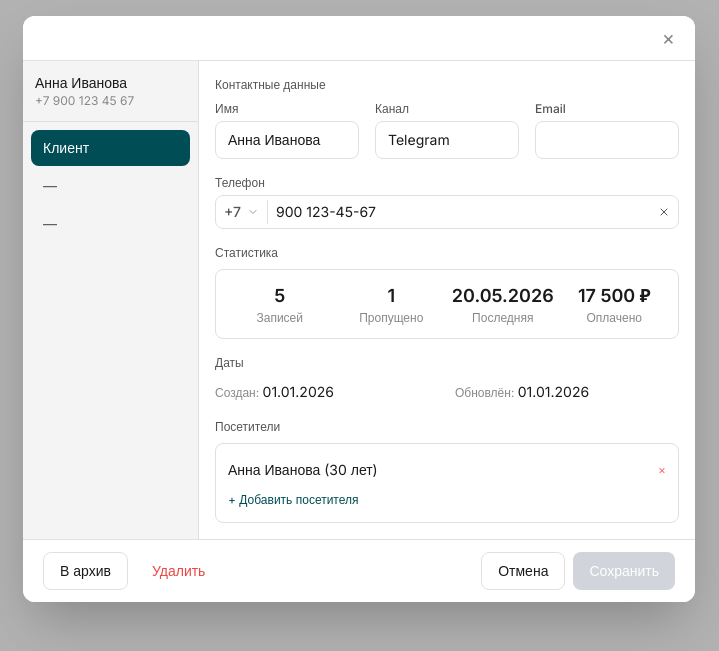
Test: ClientCardModal ↔ ClientInfoTab integration (real components) › save button is disabled initially, enabled after name change, disabled after save
Expected: the button "Сохранить" is disabled, [573,552,675,590]
# Change name
Replace the text in the field labelled "Имя" with "Новое Имя" at (287, 140), box [215,121,359,159]
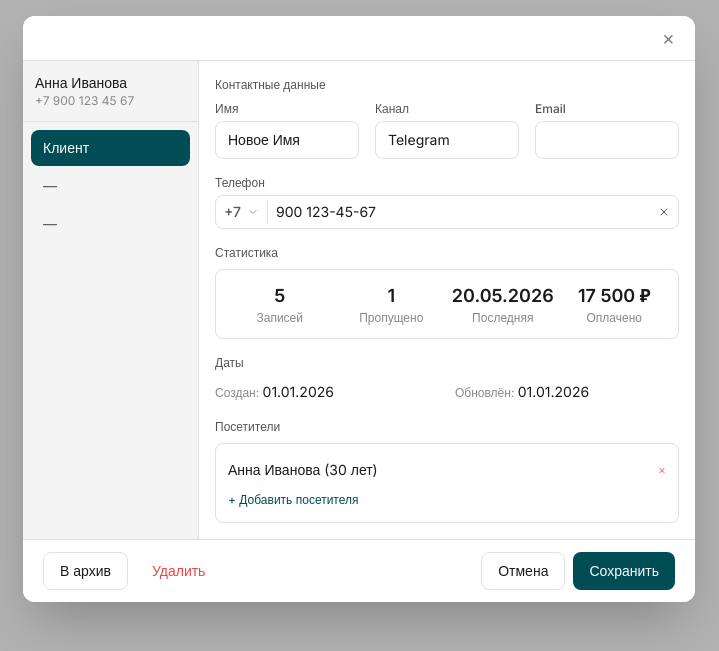
Result: the button "Сохранить" is enabled
# Click save
Click the button "Сохранить" at (624, 571), box [573,552,675,590]
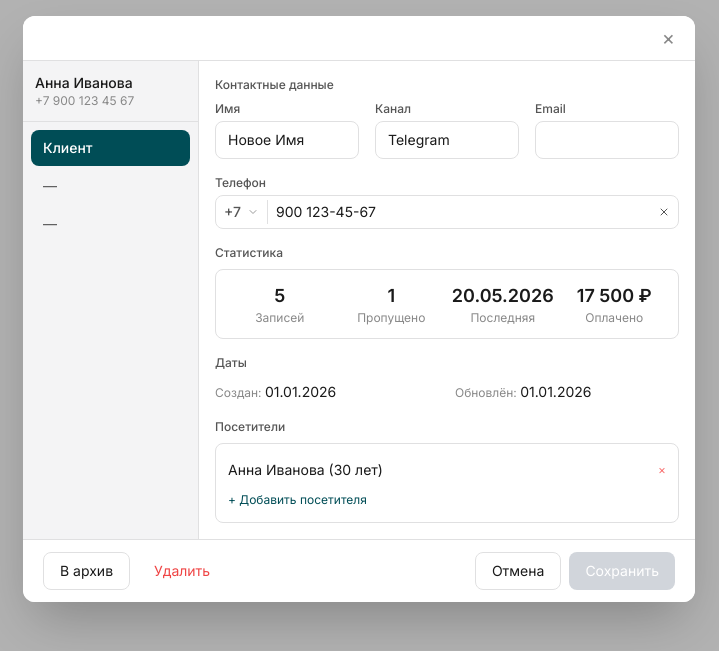
Result: the button "Сохранить" is disabled at [569,552,675,590]
